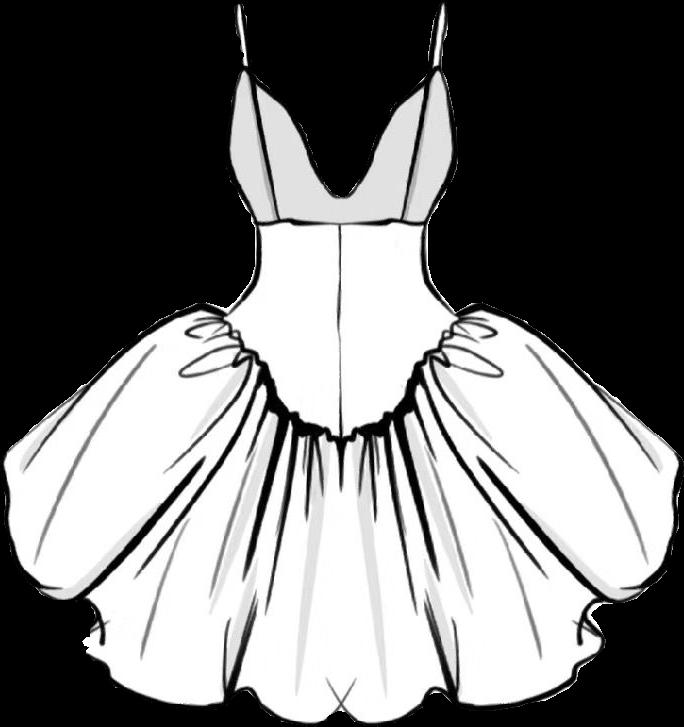Bodice: (219, 3, 462, 449)
Hemline: (0, 450, 683, 726)
Neckline: (236, 3, 448, 197), (255, 214, 425, 230)
Skirt: (4, 302, 682, 722)
Waistline: (221, 307, 465, 452)
